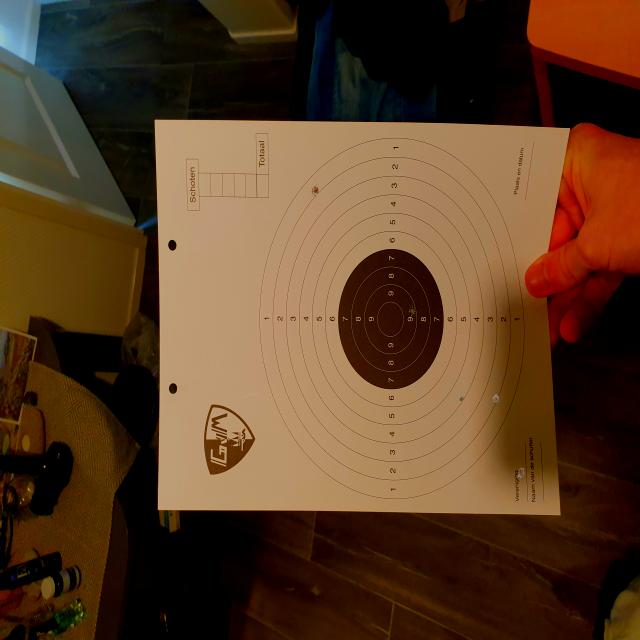0: (517, 466, 525, 478)
2: (311, 184, 320, 197), (492, 393, 499, 403)
4: (458, 394, 464, 403)
9: (408, 305, 417, 317)
Target: (261, 137, 524, 498)
black_contour: (339, 250, 444, 390)
